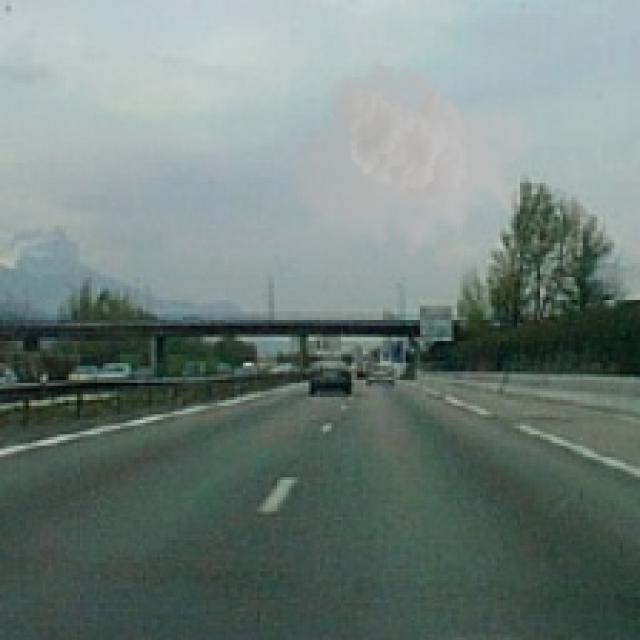Smoke: (294, 57, 537, 272)
